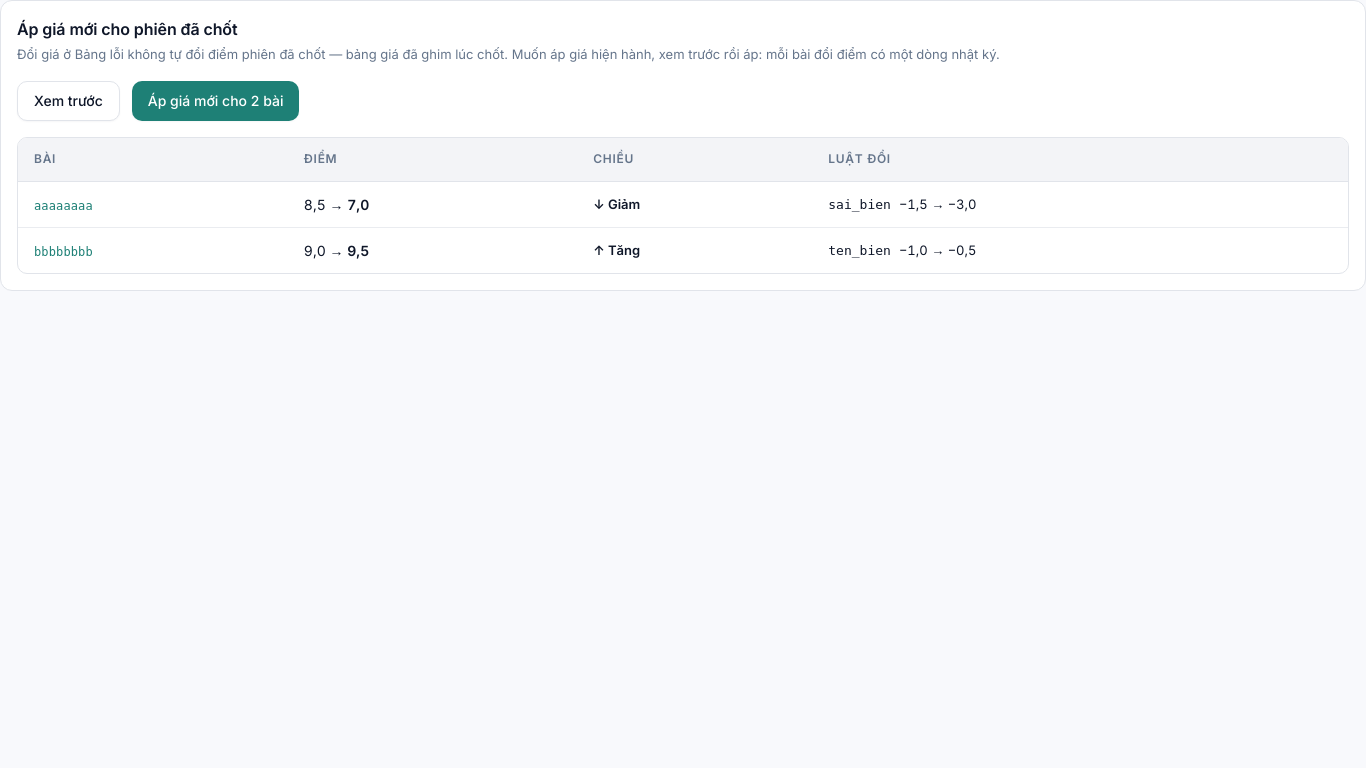
Test: ReapplyPricesPanel › a preview with changes › a refusal (409) shows the server message verbatim in the dialog
Click the button "Áp giá mới cho 2 bài".
click(216, 100)  # box [132,80,299,120]
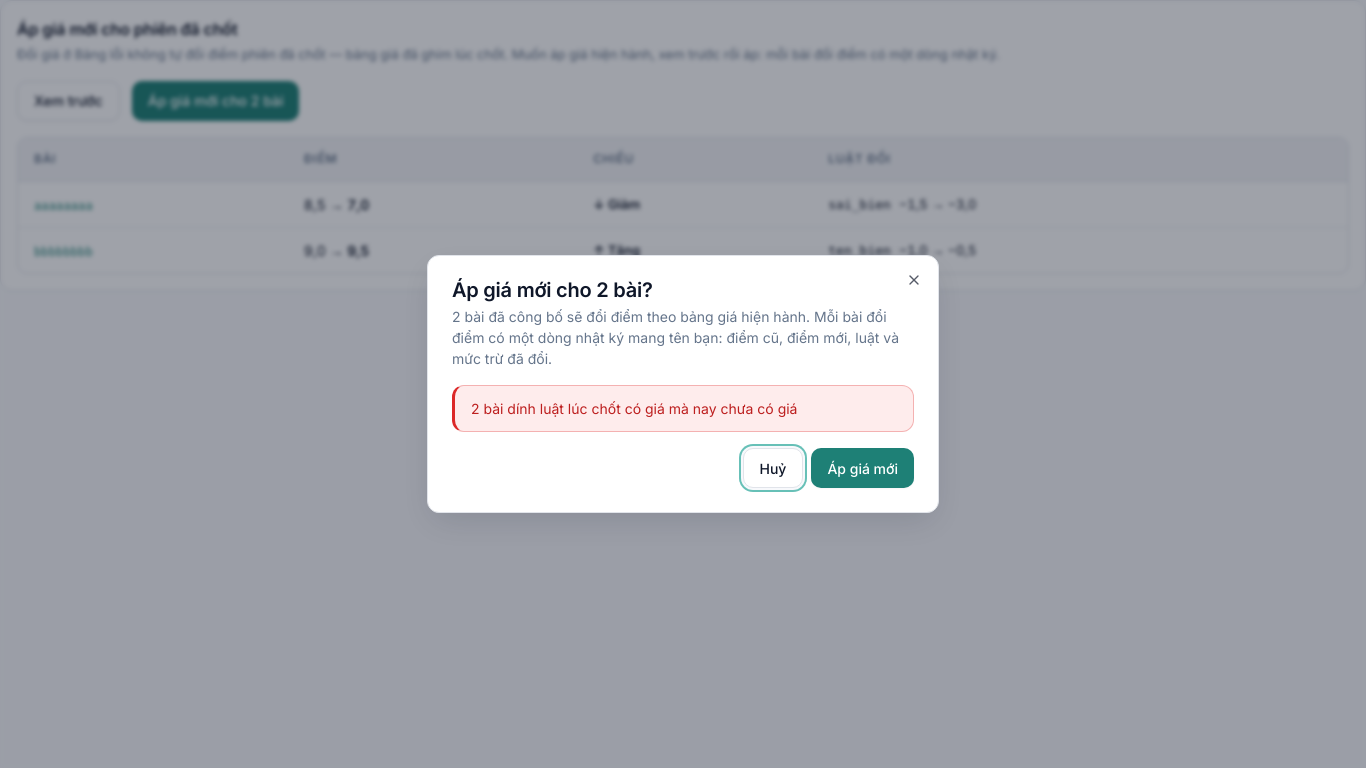
Now the message shows "nay chưa có giá", box [471,400,798,417]
